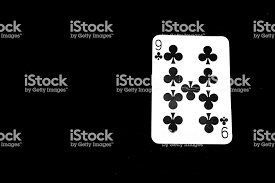nine of clubs: (151, 34, 232, 144)
